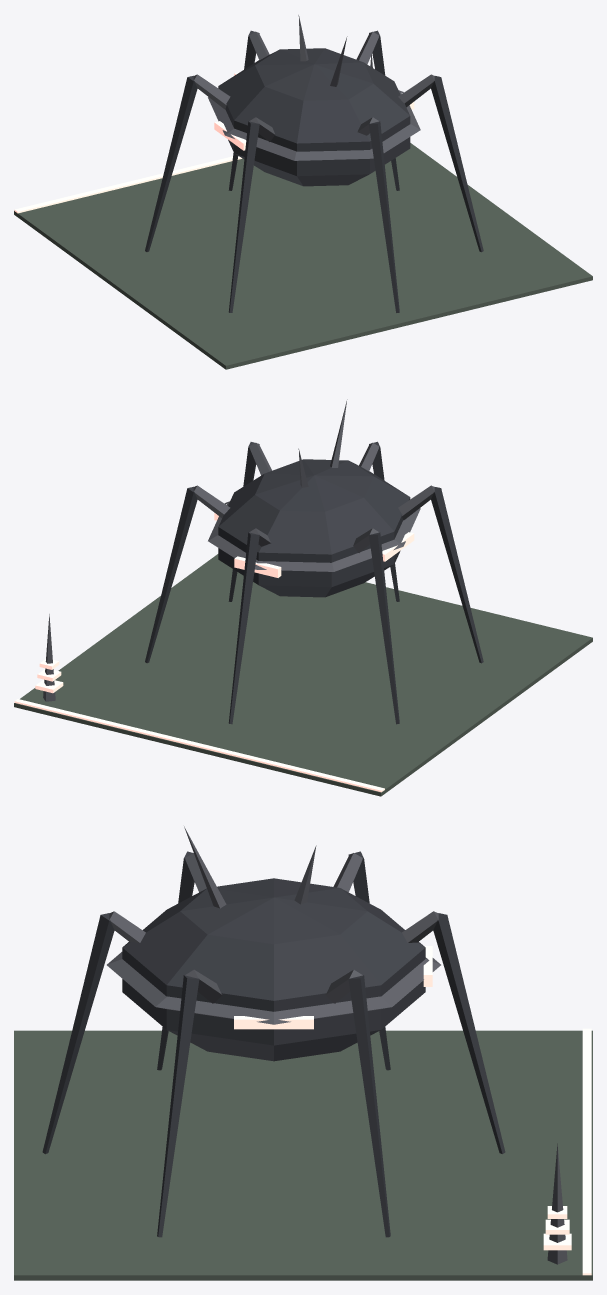
The model's file is zone_low_2_t3.glb.
3 views of the same model, one above another, from view 1: azimuth 30°, elevation 25°; view 2: azimuth 150°, elevation 25°; view 3: azimuth 270°, elevation 25° (orthographic). The views are drawn at different scales.
Parts seen in each view (by area): view 1: zone_low_2_t3, detail; view 2: zone_low_2_t3, detail; view 3: zone_low_2_t3, detail.
Part boxes in pixels (x1,y1,x2,y2): zone_low_2_t3: [14, 30, 592, 369]; detail: [14, 15, 414, 213]; zone_low_2_t3: [14, 441, 592, 796]; detail: [14, 399, 414, 792]; zone_low_2_t3: [14, 851, 592, 1280]; detail: [184, 826, 591, 1275].
Bounding box in the file's own units: 19.6 × 12.44 × 19.6.
